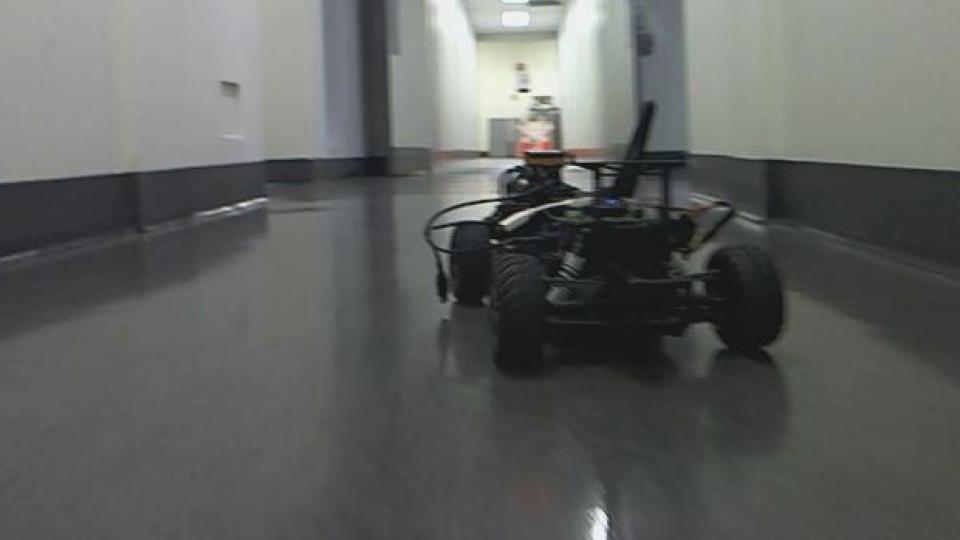car: (421, 99, 790, 371)
